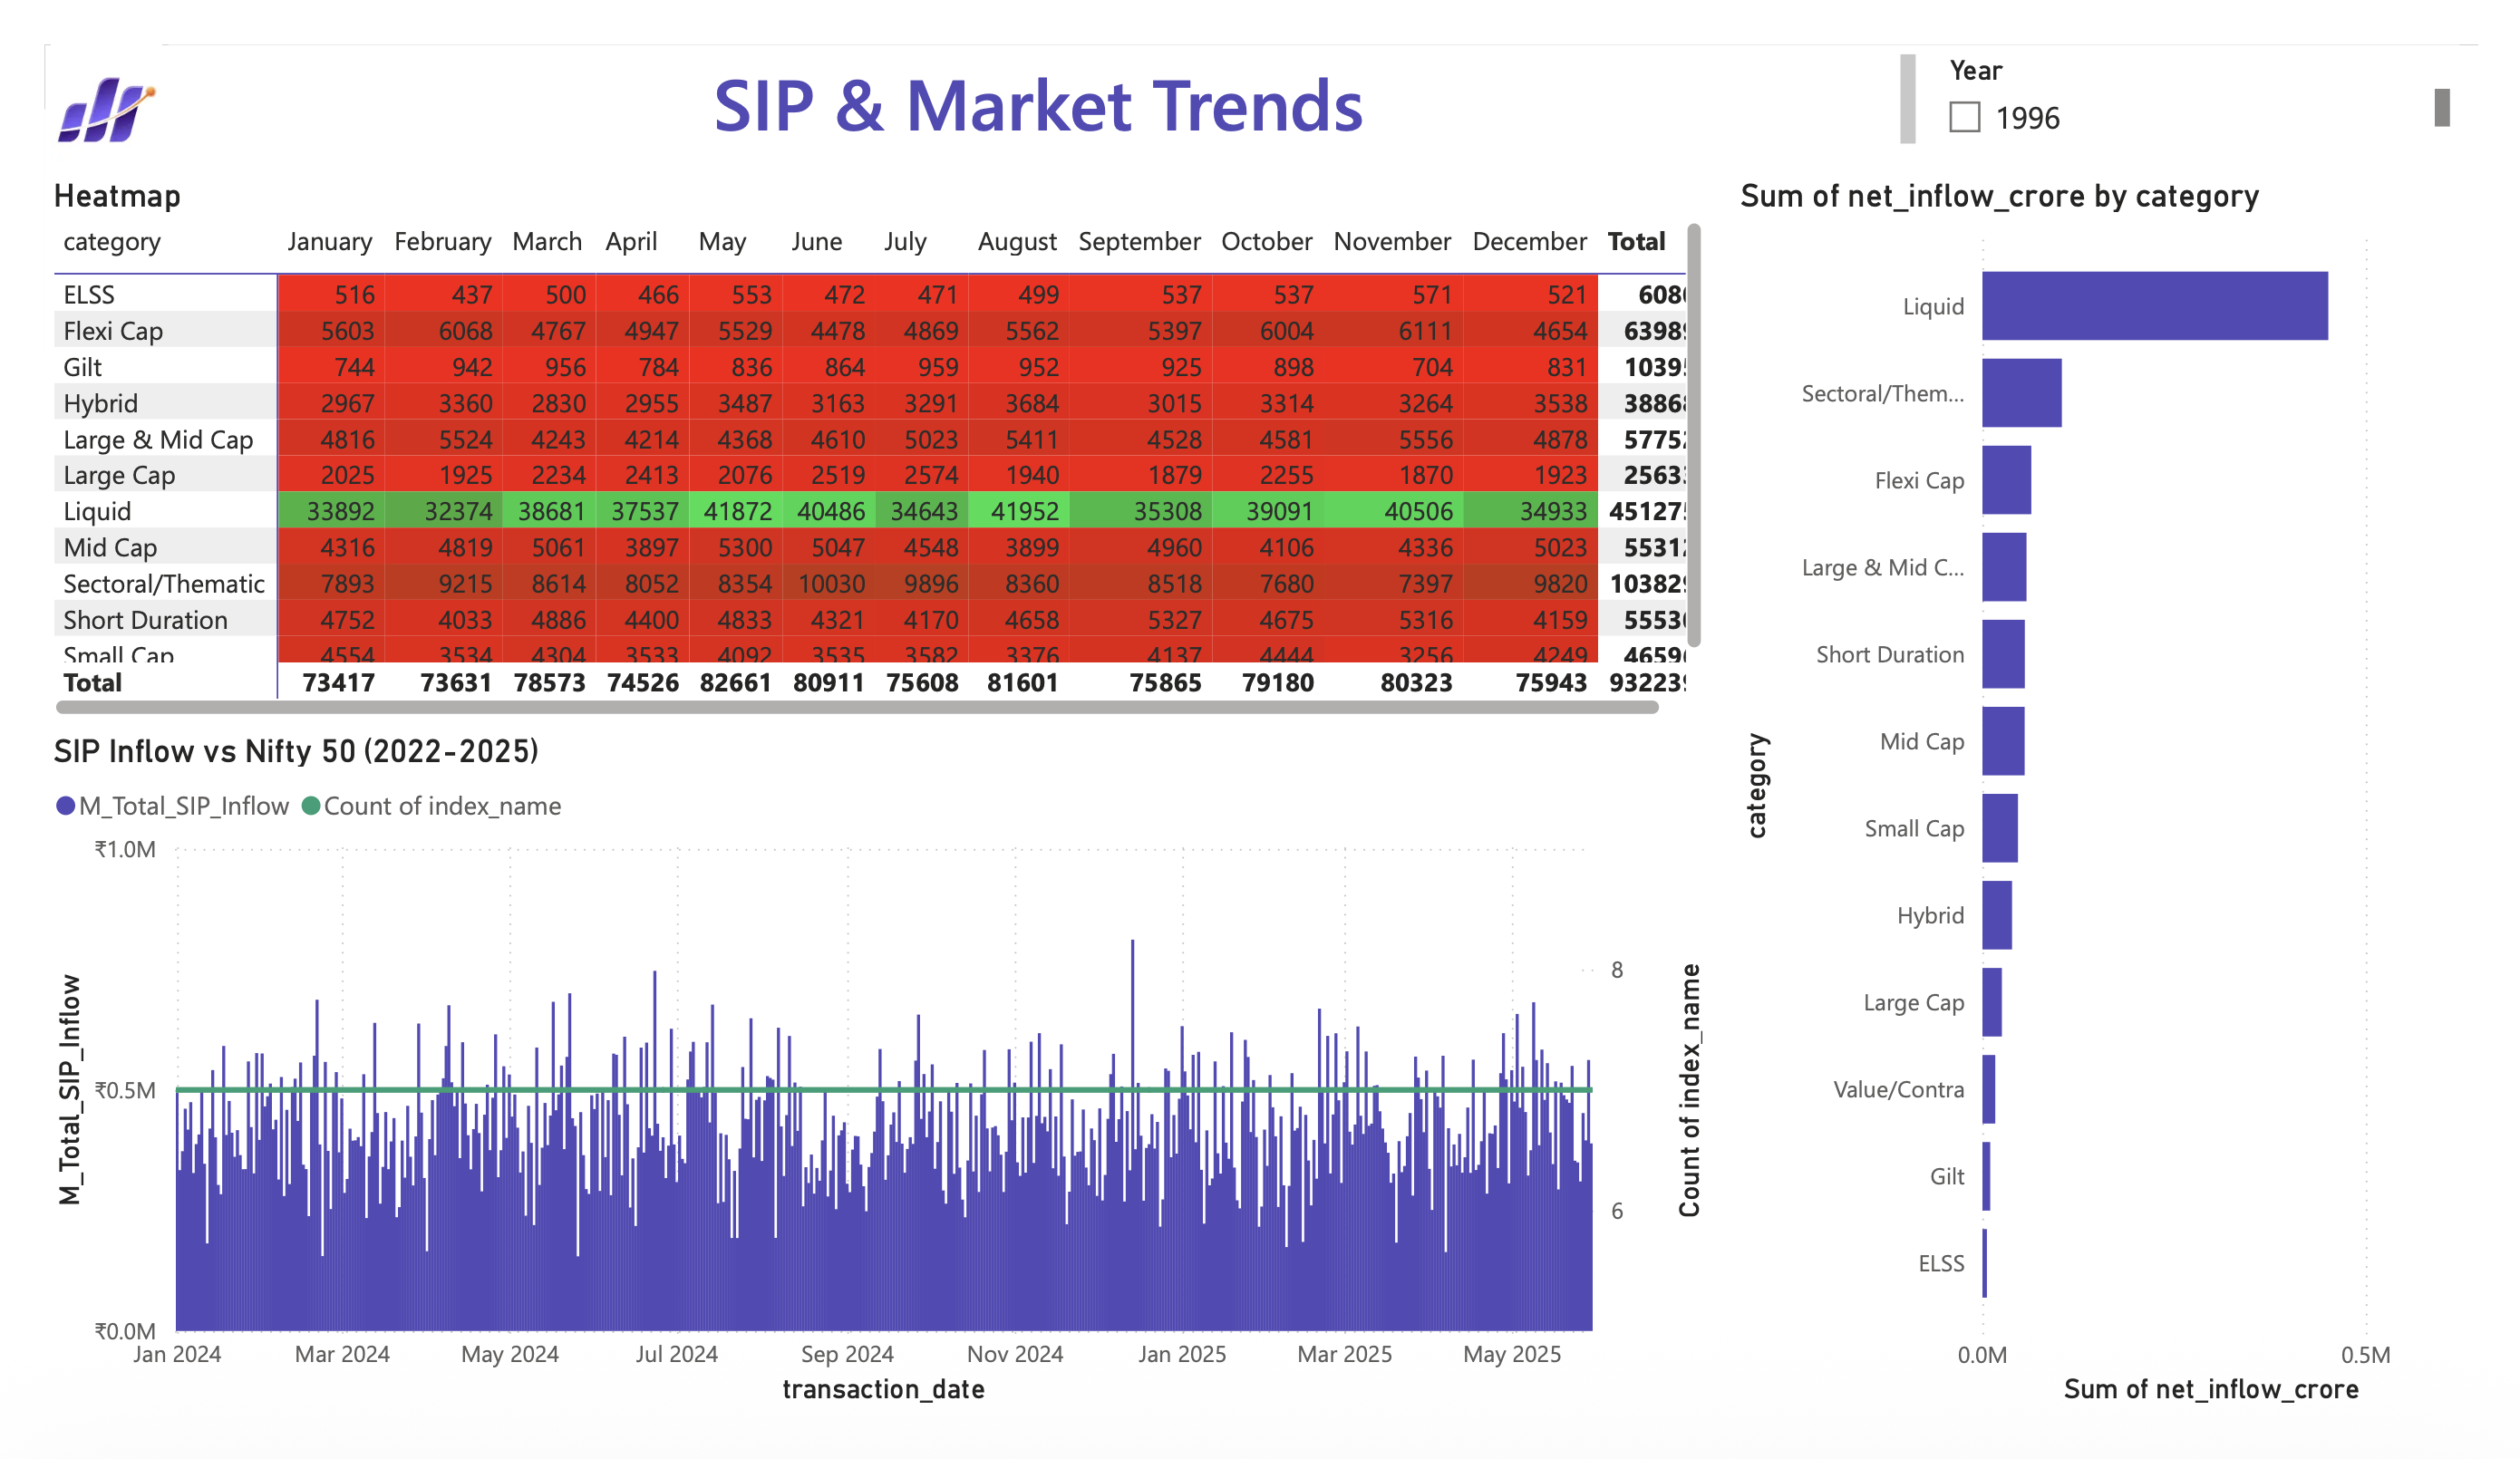

What the dashboard file says about the page in this screenshot:
{"tool":"powerbi","page":{"name":"SIP & Market Trends","canvas":[1280,720],"ordinal":3},"visuals":[{"type":"lineClusteredColumnComboChart","title":"SIP Inflow vs Nifty 50 (2022-2025)","fields":{"Category":["08_investor_transactions.transaction_date.Variation.Date Hierarchy.Month"],"Y":["_Measures.M_Total_SIP_Inflow"],"Y2":["CountNonNull(10_benchmark_indices.index_name)"]},"box":[0,360.6,876.8,359.6],"z":0},{"type":"pivotTable","title":"Heatmap ","fields":{"Rows":["05_category_inflows.category"],"Columns":["05_category_inflows.month.Variation.Date Hierarchy.Month"],"Values":["Sum(05_category_inflows.net_inflow_crore)"]},"box":[0,68.7,876.8,288.9],"z":1000},{"type":"barChart","fields":{"Y":["Sum(05_category_inflows.net_inflow_crore)"],"Category":["05_category_inflows.category"]},"box":[886.9,68.7,392.9,651.5],"z":2000},{"type":"slicer","fields":{"Values":["01_fund_master.launch_date.Variation.Date Hierarchy.Year"]},"box":[988.9,-0.1,280.8,57.6],"z":2001},{"type":"textbox","box":[64.6,0,924.2,57.6],"z":2002},{"type":"image","box":[0,0,64.6,68.7],"z":2003}]}

Visuals, with their boxes in screenshot pixels (x1, y1, x2, y2), scaled from the page's 1280x720 canvas onto the 2520x1459 screenshot:
"SIP Inflow vs Nifty 50 (2022-2025)" lineClusteredColumnComboChart: [x1=0, y1=730, x2=1726, y2=1458]
"Heatmap " pivotTable: [x1=0, y1=140, x2=1726, y2=725]
barChart - Sum(05_category_inflows.net_inflow_crore) x 05_category_inflows.category: [x1=1746, y1=140, x2=2519, y2=1458]
slicer - 01_fund_master.launch_date.Variation.Date Hierarchy.Year: [x1=1947, y1=0, x2=2500, y2=117]
textbox: [x1=127, y1=0, x2=1947, y2=117]
image: [x1=0, y1=0, x2=127, y2=140]
